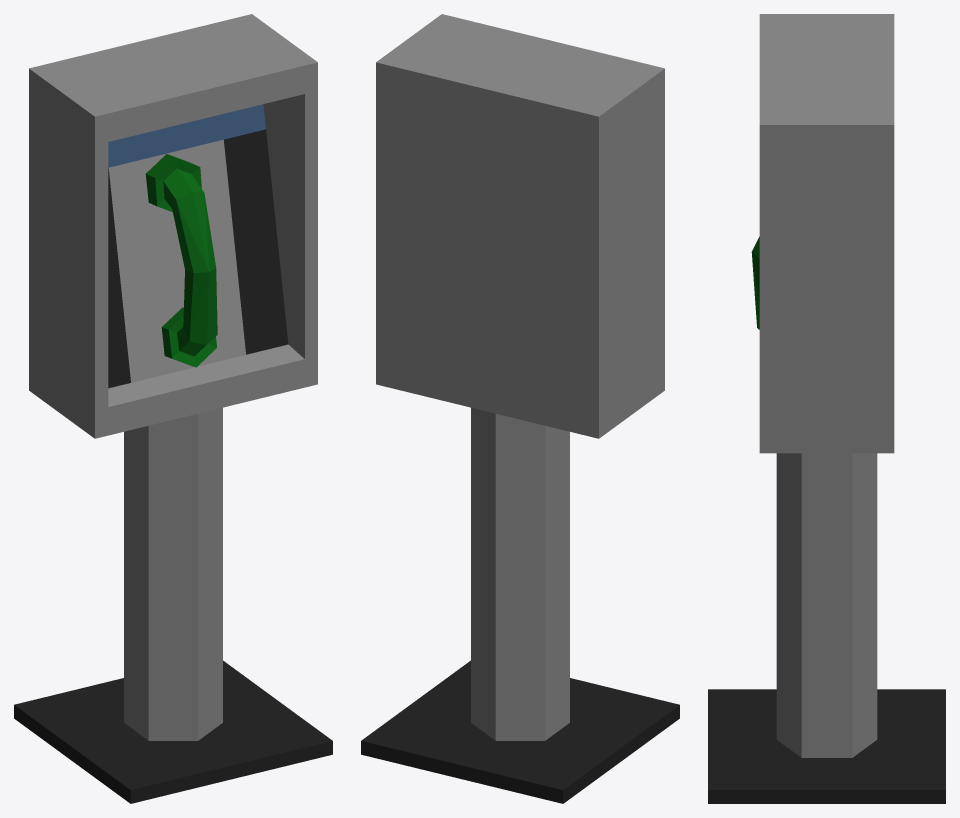
The model's file is phonebooth.glb.
3 renders of one model, left to right at view 1: azimuth 30°, elevation 25°; view 2: azimuth 150°, elevation 25°; view 3: azimuth 270°, elevation 25°, orthographic.
Visible parts, largest first — view 1: PhoneBooth_02_Cube.006; view 2: PhoneBooth_02_Cube.006; view 3: PhoneBooth_02_Cube.006.
Part boxes in pixels (<box>): PhoneBooth_02_Cube.006: <box>14,14,332,803</box>; PhoneBooth_02_Cube.006: <box>361,14,679,803</box>; PhoneBooth_02_Cube.006: <box>708,14,945,803</box>.
Bounding box in the file's own units: 4.51 × 12.97 × 4.09.
